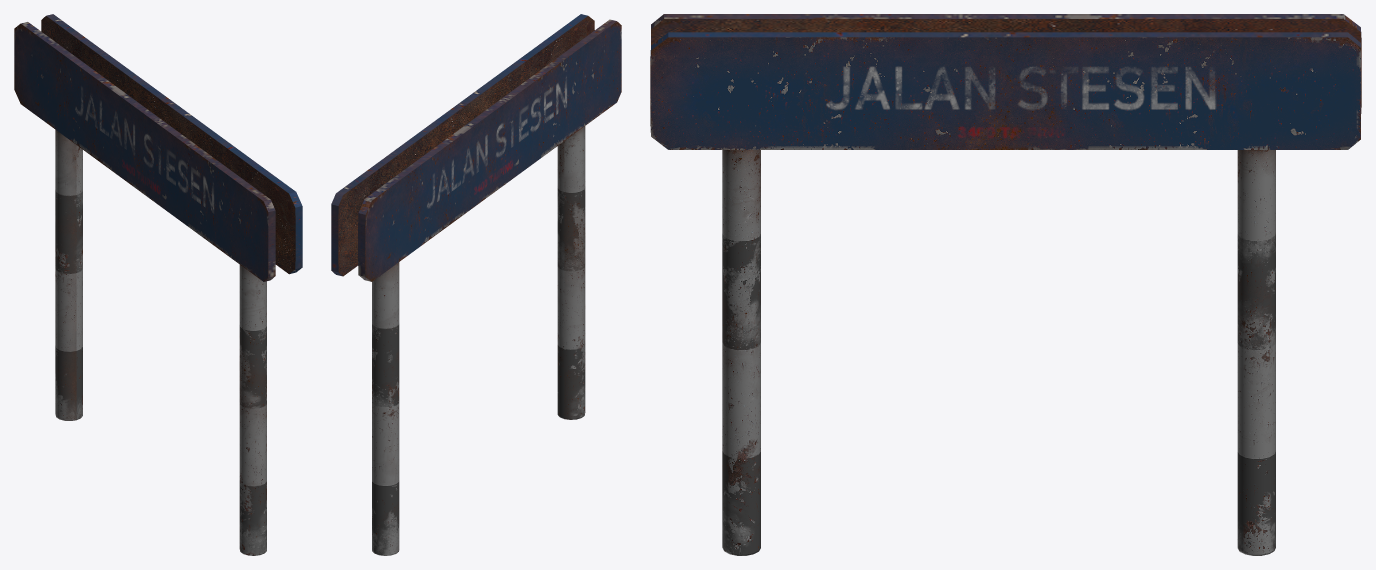
File: malaysia_road_sign.glb
3 renders of one model, left to right at view 1: azimuth 30°, elevation 25°; view 2: azimuth 150°, elevation 25°; view 3: azimuth 270°, elevation 25°, orthographic. The views are drawn at different scales.
Parts seen in each view (by area): view 1: Signboard; view 2: Signboard; view 3: Signboard.
Part boxes in pixels (<box>): Signboard: <box>14,14,302,555</box>; Signboard: <box>331,14,621,555</box>; Signboard: <box>650,14,1361,555</box>.
Size of the model in its own units: 0.1065 by 1.11 by 1.37.
1 material, 1 textured.
